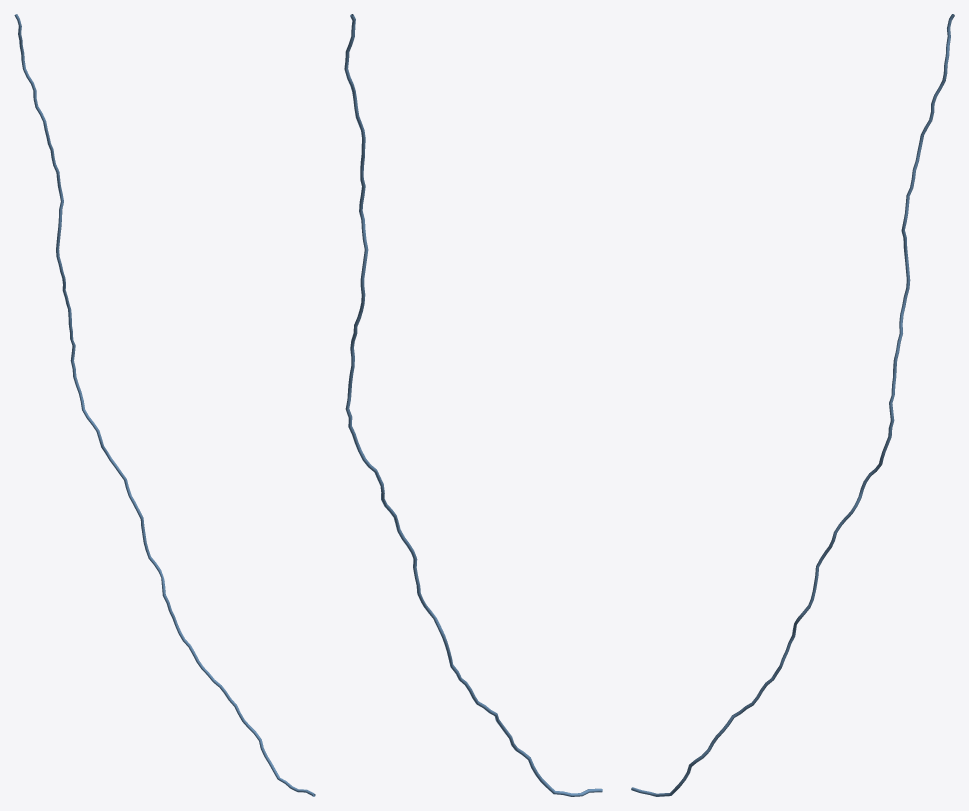
The model's file is sweep325.fbx.
3 renders of one model, left to right at view 1: azimuth 90°, elevation 25°; view 2: azimuth 150°, elevation 25°; view 3: azimuth 270°, elevation 25°, orthographic. The views are drawn at different scales.
Parts seen in each view (by area): view 1: sweep325; view 2: sweep325; view 3: sweep325.
Part boxes in pixels (<box>): sweep325: <box>14,14,315,796</box>; sweep325: <box>344,14,602,796</box>; sweep325: <box>631,14,954,796</box>.
Bounding box in the file's own units: 0.684 × 5.07 × 1.84.
